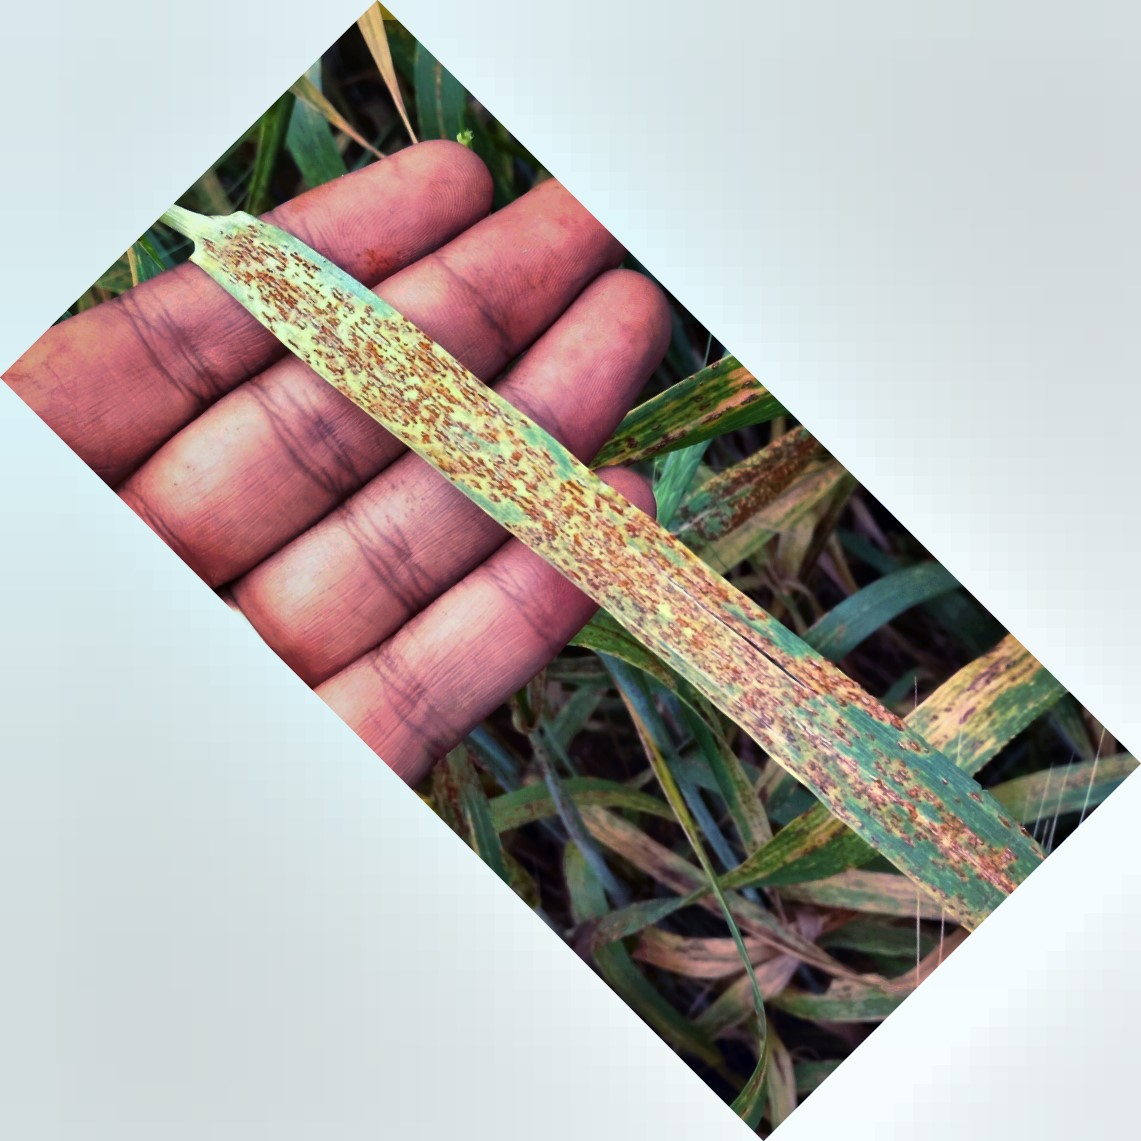Leaf Rust: (234, 226, 989, 889)
